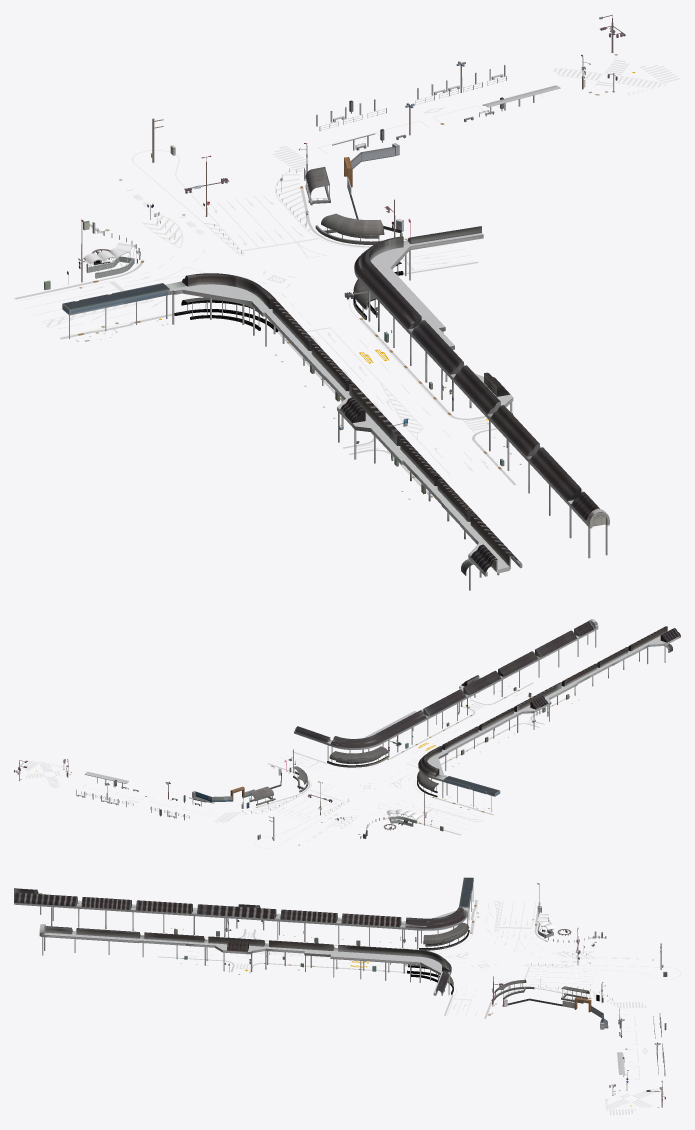
File: frn--19.glb
The picture shows the model from 3 angles, top to bottom: view 1: azimuth 30°, elevation 25°; view 2: azimuth 150°, elevation 25°; view 3: azimuth 270°, elevation 25°; orthographic projection. The views are drawn at different scales.
Bounding box in the file's own units: 149 × 12.75 × 194.
Materials: 2 (1 with a texture image).
